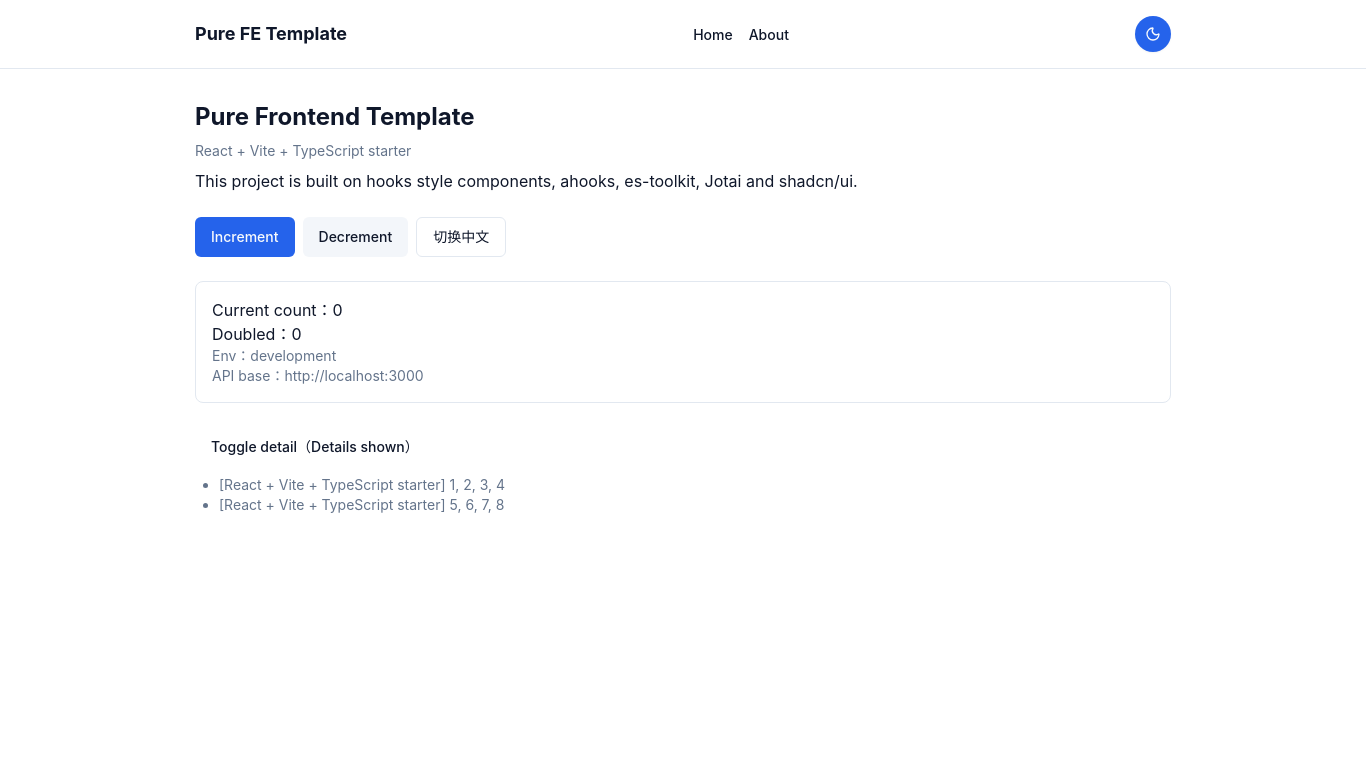
Test: theme toggle › changes the global theme when the header button is clicked
The width and height of the screenshot is (1366, 768).
Click the button named "切换深色模式" at (1153, 34), box [1135, 16, 1171, 52]
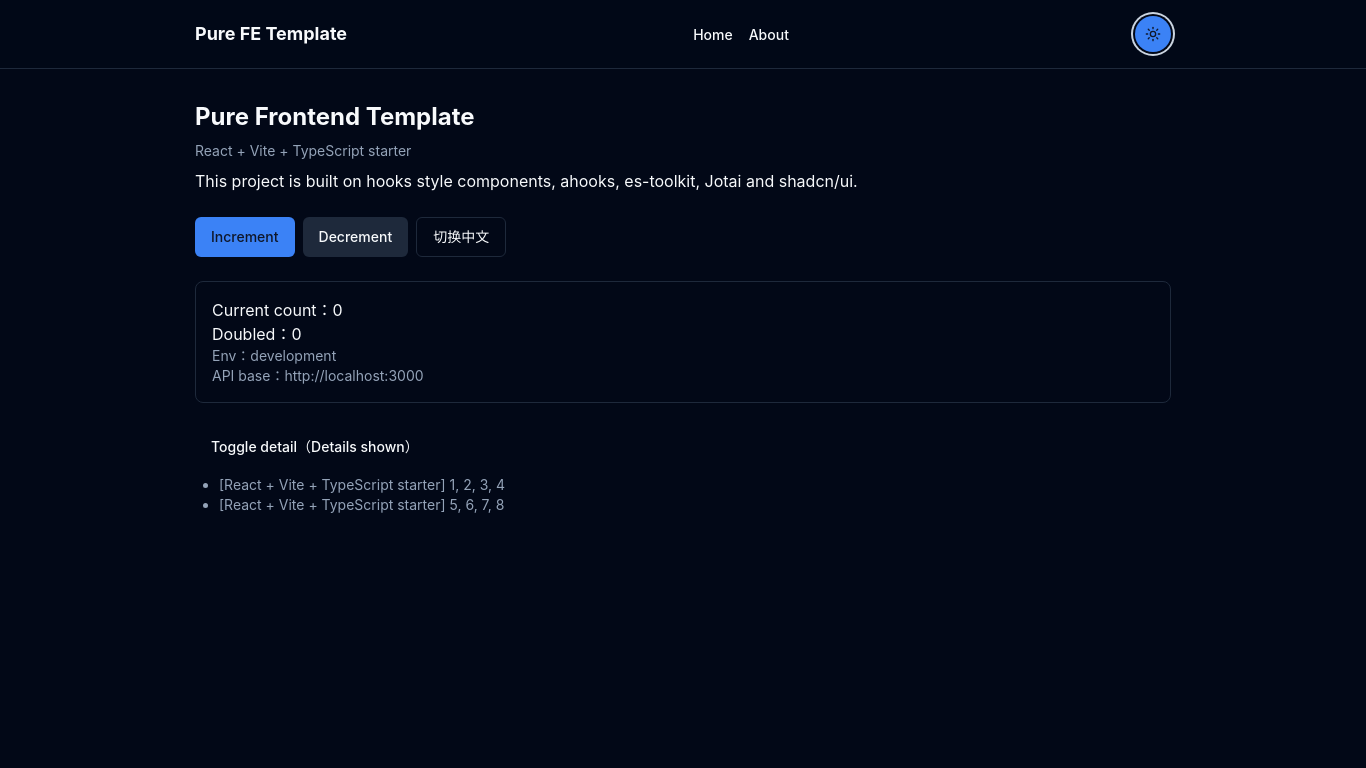
Result: the button named "切换浅色模式" is shown at [1135, 16, 1171, 52]
